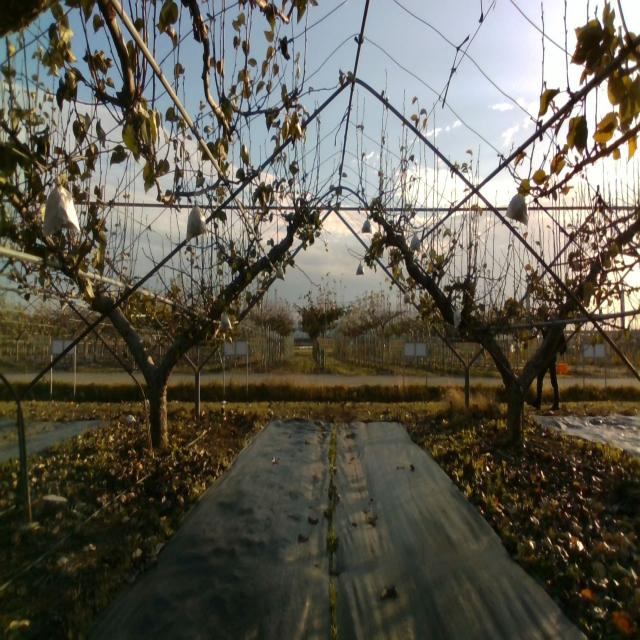pearbags: (44, 177, 81, 237), (186, 200, 208, 242), (506, 192, 528, 225), (220, 309, 232, 333), (410, 232, 421, 252), (361, 217, 372, 234)
